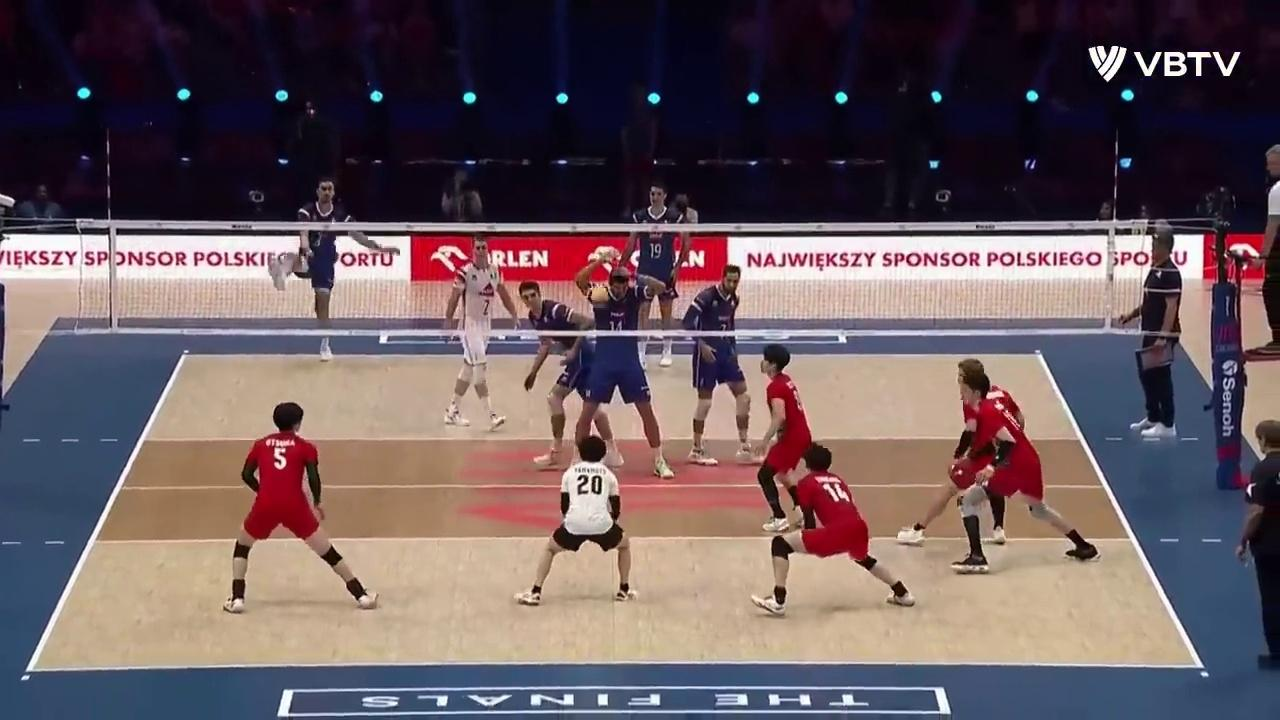ball: (588, 286, 609, 308)
